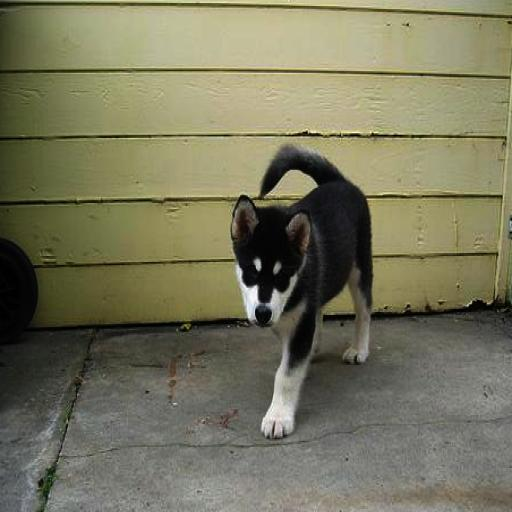dog_face: (229, 194, 312, 320)
